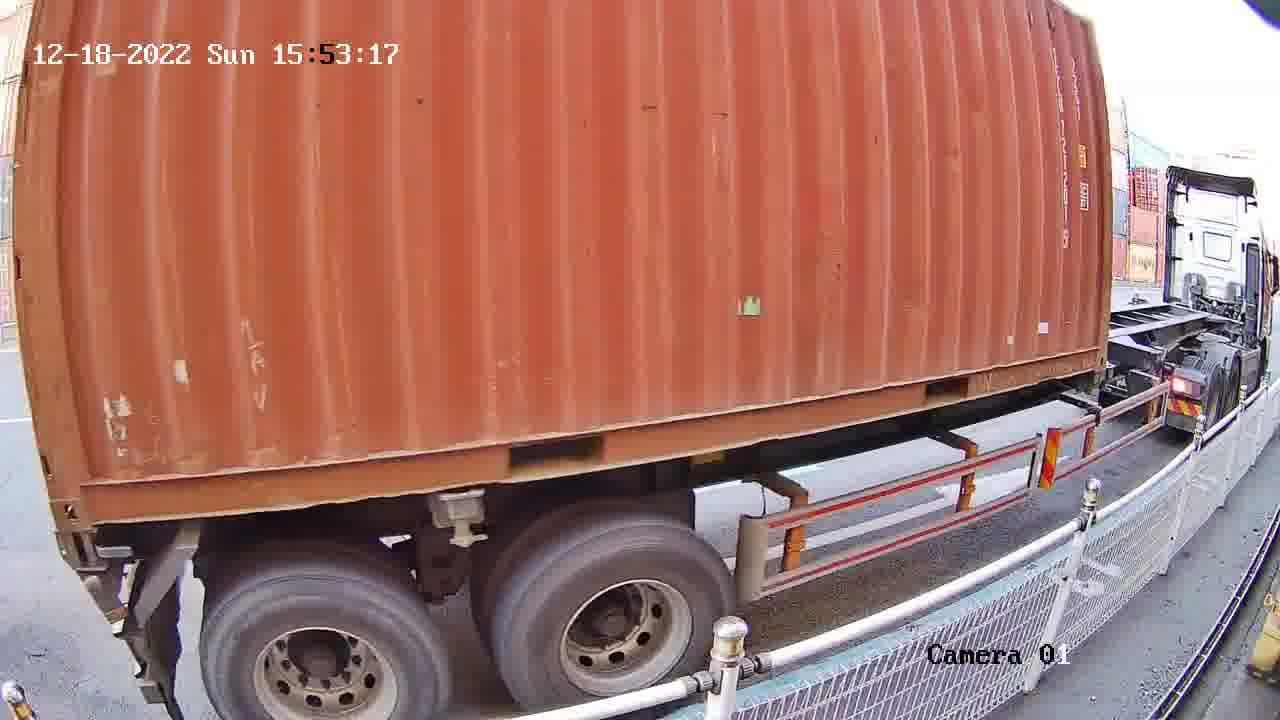Cone: (54, 525, 110, 573)
Hole_L: (41, 451, 123, 529)
Tire: (503, 531, 733, 712), (200, 577, 452, 719)
